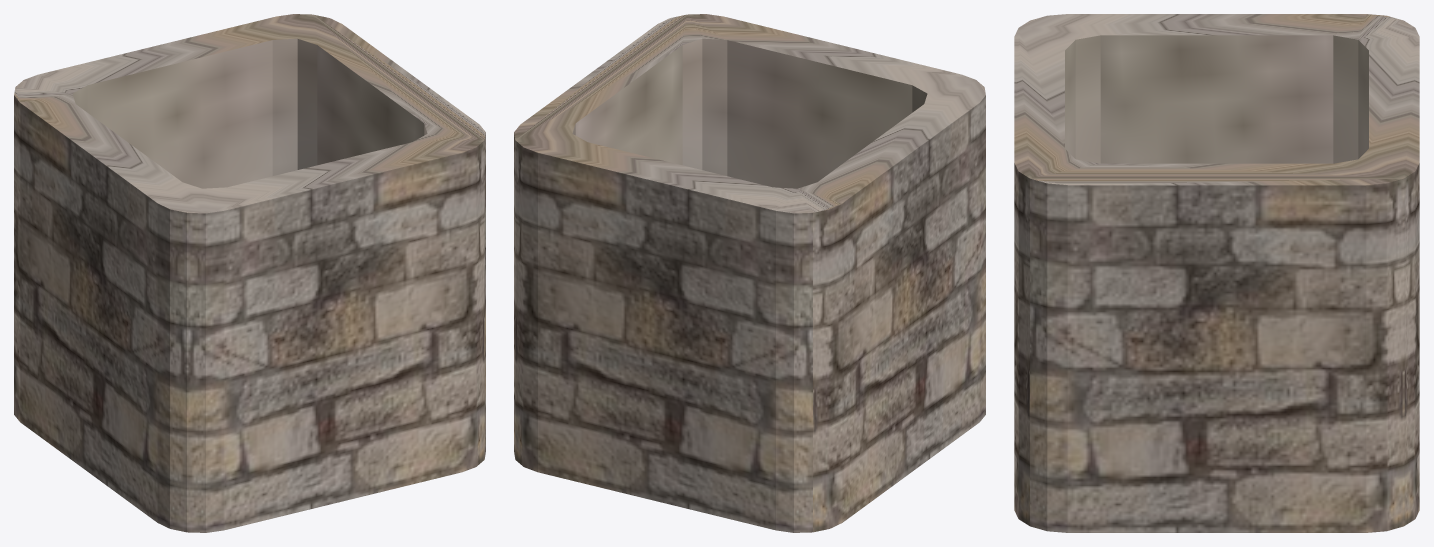
The model's file is Column_F1.glb.
3 views of the same model, side by side, from view 1: azimuth 30°, elevation 25°; view 2: azimuth 150°, elevation 25°; view 3: azimuth 270°, elevation 25° (orthographic). The views are drawn at different scales.
Visible parts, largest first — view 1: Column_Solid-col; view 2: Column_Solid-col; view 3: Column_Solid-col.
Boxes of the visible parts, x1=… form: Column_Solid-col: x1=14, y1=14, x2=485, y2=532; Column_Solid-col: x1=514, y1=14, x2=985, y2=532; Column_Solid-col: x1=1014, y1=14, x2=1419, y2=532.
Bounding box in the file's own units: 2 × 1.9 × 2.
1 material, 1 textured.
